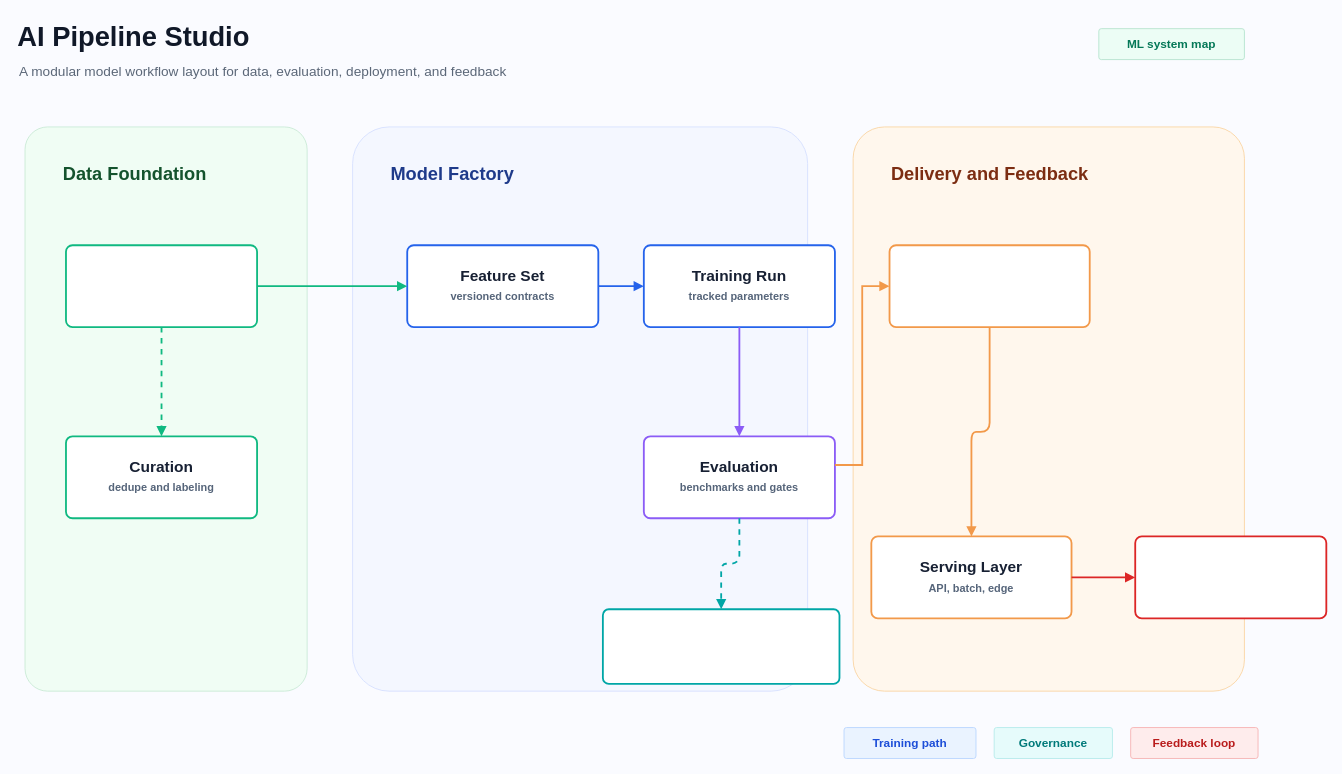
The diagram is 1342 pixels wide and 774 high, and some of its shapes have lost their labels. Each missing label, with the centre of its shape:
"Audit Trail datasets and evidence" goes at pixel 721 646.
"Feedback Review quality and drift" goes at pixel 1230 577.
"Model Registry approved artifacts" goes at pixel 989 286.
"Source Streams logs, docs, events" goes at pixel 161 286.
